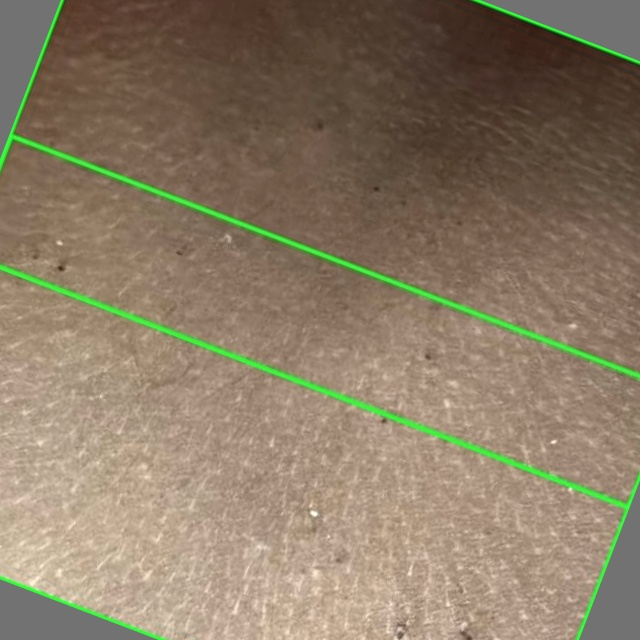Contact Dermatitis: (0, 0, 639, 507), (0, 134, 639, 639)
